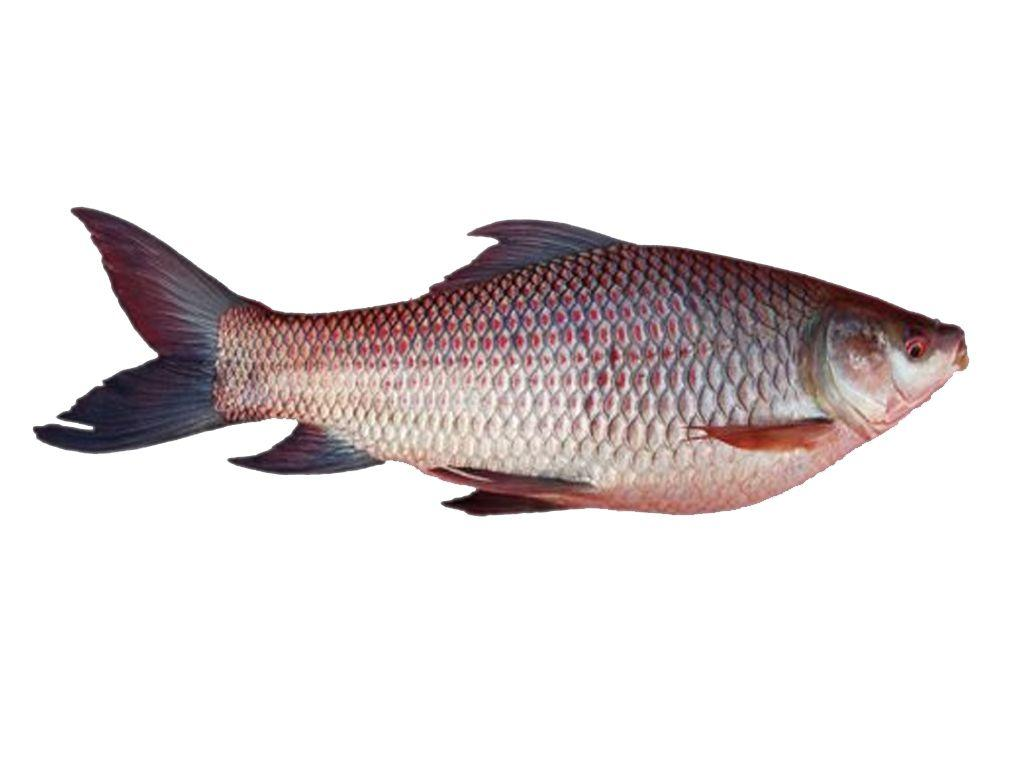Indian Carp: (29, 198, 974, 518)
